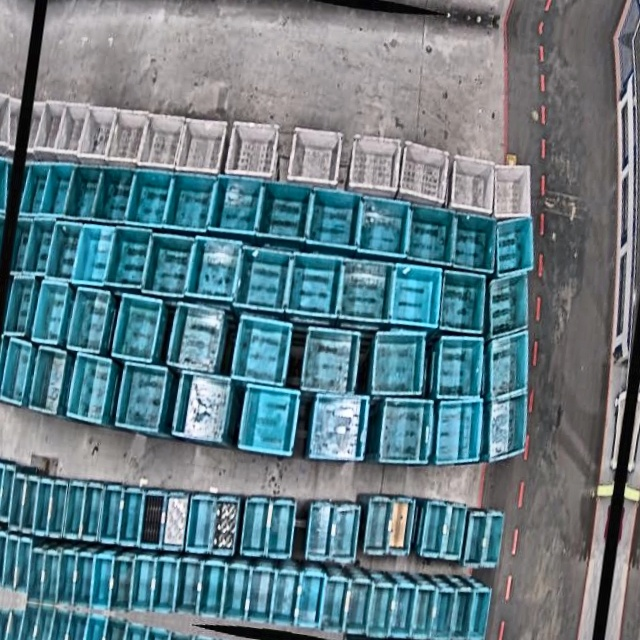Box: (237, 383, 303, 459), (232, 312, 297, 389), (367, 326, 431, 402), (306, 392, 371, 466), (301, 325, 365, 399), (376, 394, 437, 471), (431, 395, 492, 472), (431, 330, 492, 405), (480, 266, 538, 344), (336, 255, 397, 328), (483, 327, 540, 405), (478, 391, 534, 470), (283, 249, 343, 320), (388, 260, 447, 332), (170, 302, 227, 376), (177, 371, 233, 446), (435, 266, 493, 338), (236, 244, 295, 314), (394, 141, 453, 211), (345, 130, 404, 198), (116, 361, 170, 435), (307, 186, 367, 252), (285, 123, 344, 190), (256, 179, 315, 246), (185, 235, 242, 304), (354, 193, 412, 259), (223, 118, 280, 184), (207, 172, 263, 239), (110, 293, 163, 363), (403, 201, 459, 267), (448, 208, 502, 276), (490, 212, 542, 282), (63, 353, 113, 425), (447, 154, 501, 220), (141, 231, 194, 298), (175, 115, 228, 181), (166, 169, 219, 234), (487, 160, 539, 225), (68, 286, 114, 355), (126, 167, 175, 231), (106, 225, 152, 292), (137, 112, 186, 174), (104, 107, 149, 170), (74, 223, 116, 287), (30, 347, 70, 414), (94, 163, 137, 225), (33, 280, 72, 346), (64, 161, 104, 222), (77, 104, 117, 164), (0, 339, 35, 407), (47, 220, 84, 282), (5, 274, 40, 338), (326, 502, 361, 565), (238, 494, 272, 558), (183, 492, 217, 555), (363, 494, 397, 557), (39, 159, 75, 218), (265, 497, 299, 559), (386, 494, 419, 557), (209, 494, 241, 558), (303, 502, 337, 562), (54, 102, 89, 160), (31, 100, 67, 156), (23, 217, 56, 277), (418, 501, 451, 560), (161, 489, 192, 551), (270, 567, 302, 627), (246, 567, 278, 625), (221, 562, 251, 622), (196, 561, 226, 620), (343, 579, 373, 638), (296, 571, 327, 628), (320, 575, 350, 633), (388, 583, 418, 640), (367, 582, 397, 639), (119, 486, 147, 547), (174, 557, 203, 615), (139, 491, 167, 551), (20, 160, 50, 216), (151, 558, 180, 615), (108, 555, 136, 614), (88, 552, 116, 611), (78, 481, 105, 542), (99, 484, 125, 545), (461, 511, 488, 568), (129, 556, 156, 613), (63, 481, 88, 541), (410, 587, 438, 640), (45, 479, 70, 538), (69, 553, 95, 609), (55, 550, 80, 608), (481, 511, 505, 570), (40, 548, 64, 606), (449, 587, 475, 640), (430, 590, 456, 640), (32, 477, 54, 536), (20, 475, 42, 534), (24, 548, 47, 604), (468, 587, 492, 640), (8, 474, 28, 533), (14, 538, 35, 594), (1, 533, 21, 591), (0, 465, 16, 524), (0, 463, 10, 520), (0, 530, 9, 588), (0, 462, 5, 519)
